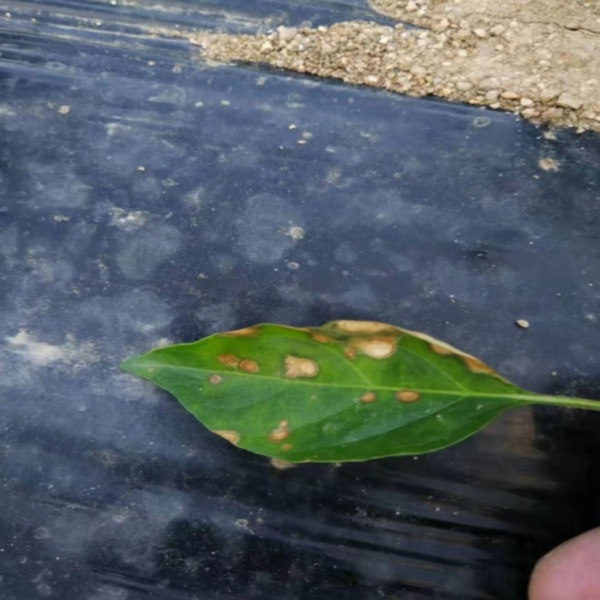Anthrax: (117, 322, 520, 464)
